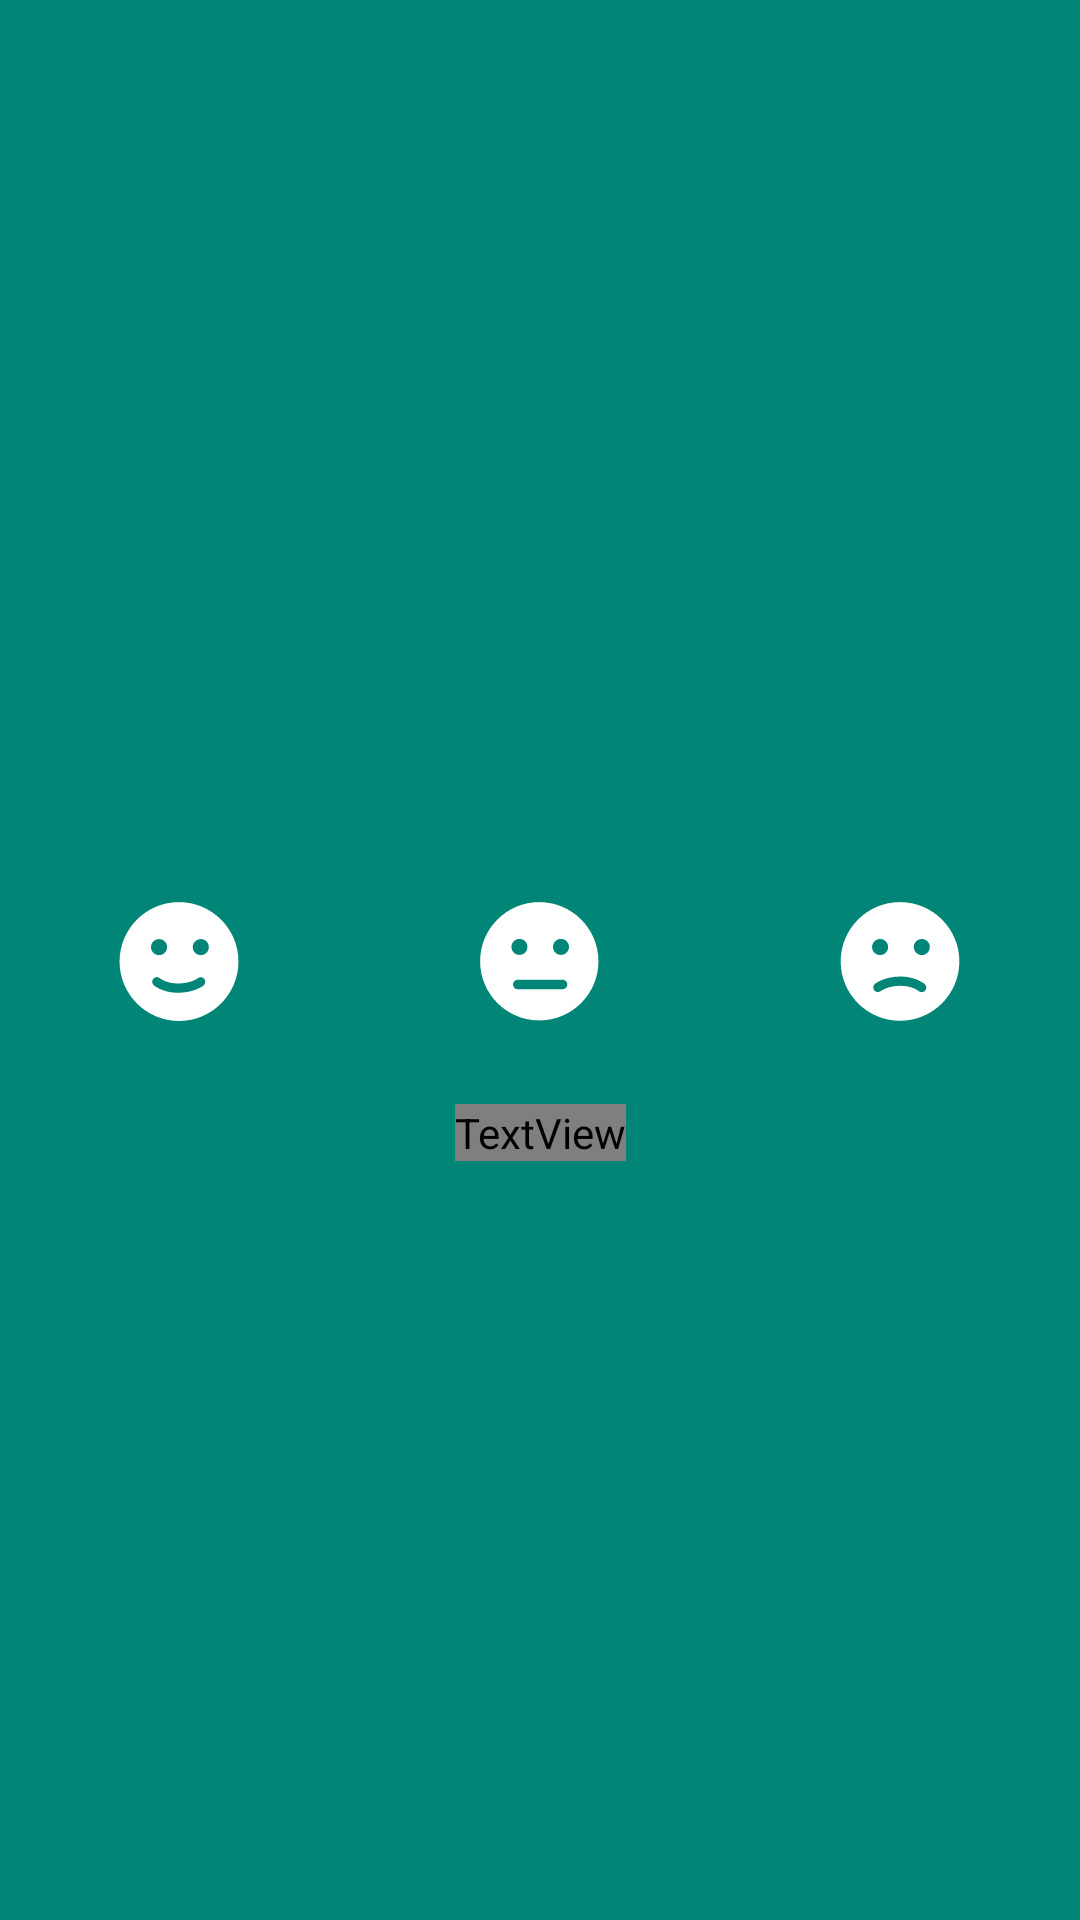

Locate icon controls on the screen. Image size 1080px x 1920px, boxes as bbox=(x1, y1, x2, y2).
mood happy: bbox=(119, 902, 239, 1021)
mood neutral: bbox=(480, 902, 599, 1021)
mood sad: bbox=(840, 902, 960, 1021)
